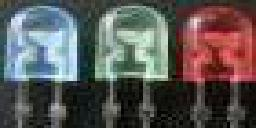LED: (3, 5, 83, 127), (91, 5, 170, 128), (178, 6, 256, 122)
